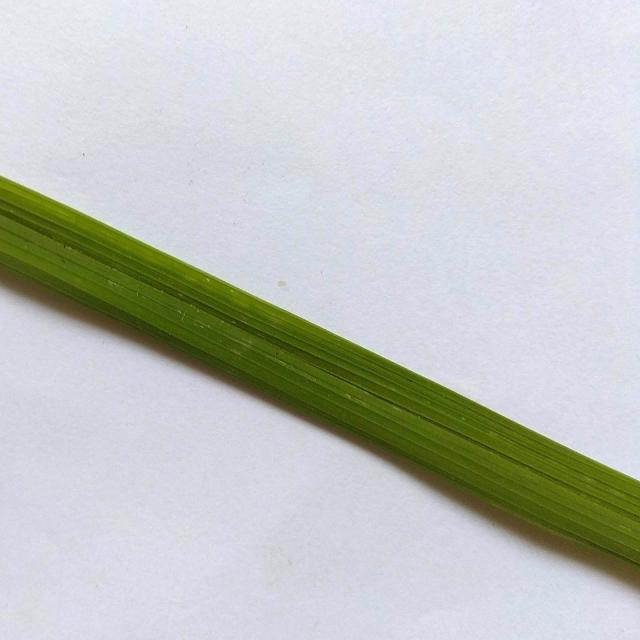healthy: (0, 143, 640, 595)
